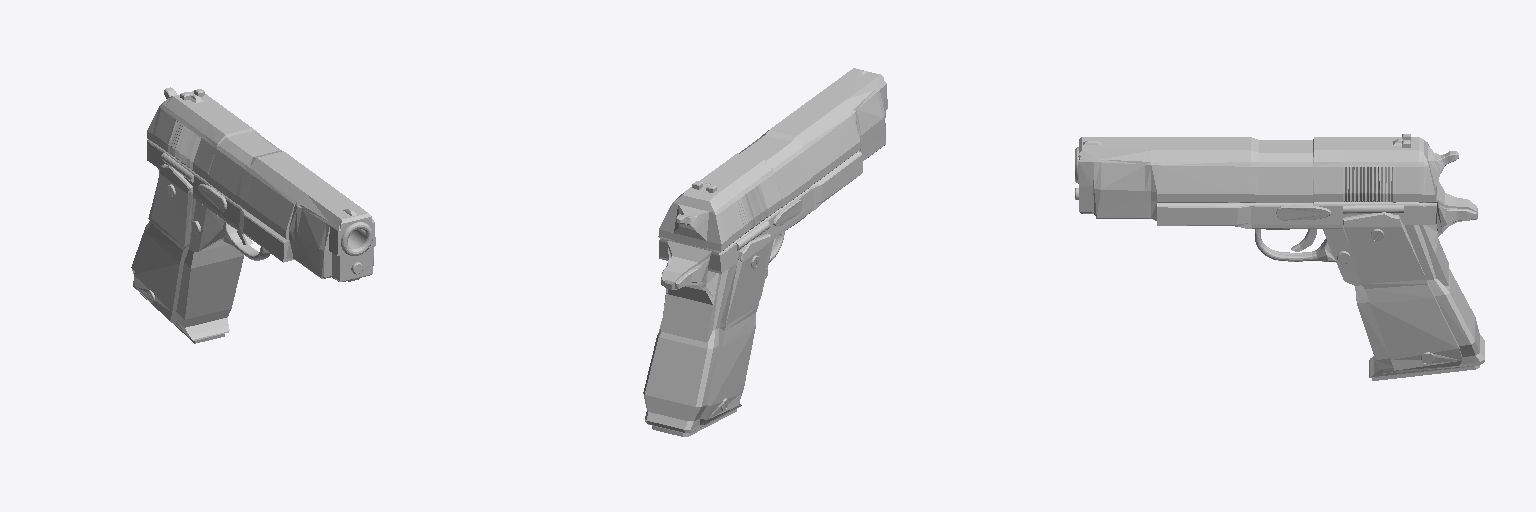
The model's file is 1911 Pistol.obj.
3 renders of one model, left to right at view 1: azimuth 30°, elevation 25°; view 2: azimuth 150°, elevation 25°; view 3: azimuth 270°, elevation 25°, orthographic.
Visible parts, largest first — view 1: 1911_Pistol_Cube.001, 1911_Pistol.001_Cube.003; view 2: 1911_Pistol_Cube.001, 1911_Pistol.001_Cube.003; view 3: 1911_Pistol_Cube.001, 1911_Pistol.001_Cube.003.
Part boxes in pixels (x1,y1,x2,y2): 1911_Pistol_Cube.001: (131,131,373,343); 1911_Pistol.001_Cube.003: (147,87,375,255); 1911_Pistol_Cube.001: (643,111,885,436); 1911_Pistol.001_Cube.003: (659,68,887,248); 1911_Pistol_Cube.001: (1075,180,1484,380); 1911_Pistol.001_Cube.003: (1075,134,1458,194).
Bounding box in the file's own units: 1.24 × 3.72 × 5.86.